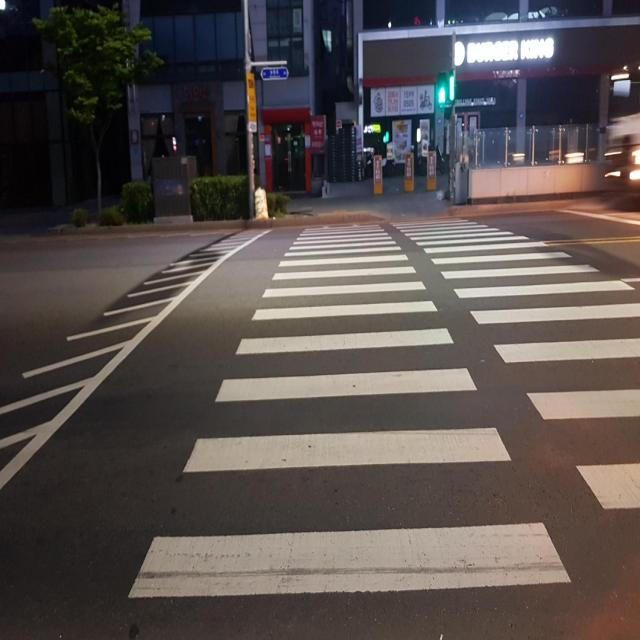초록불: (435, 70, 449, 114)
횡단보도: (126, 214, 640, 601)
